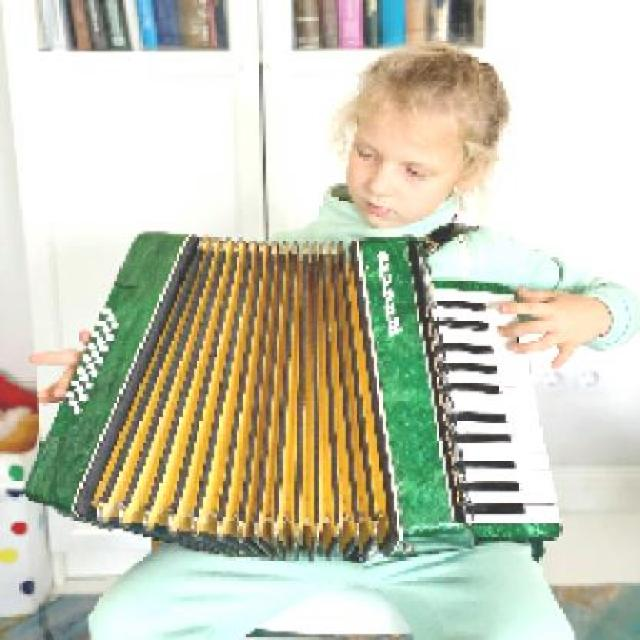child: (85, 41, 640, 638)
